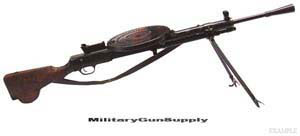rifle: (3, 3, 294, 120)
